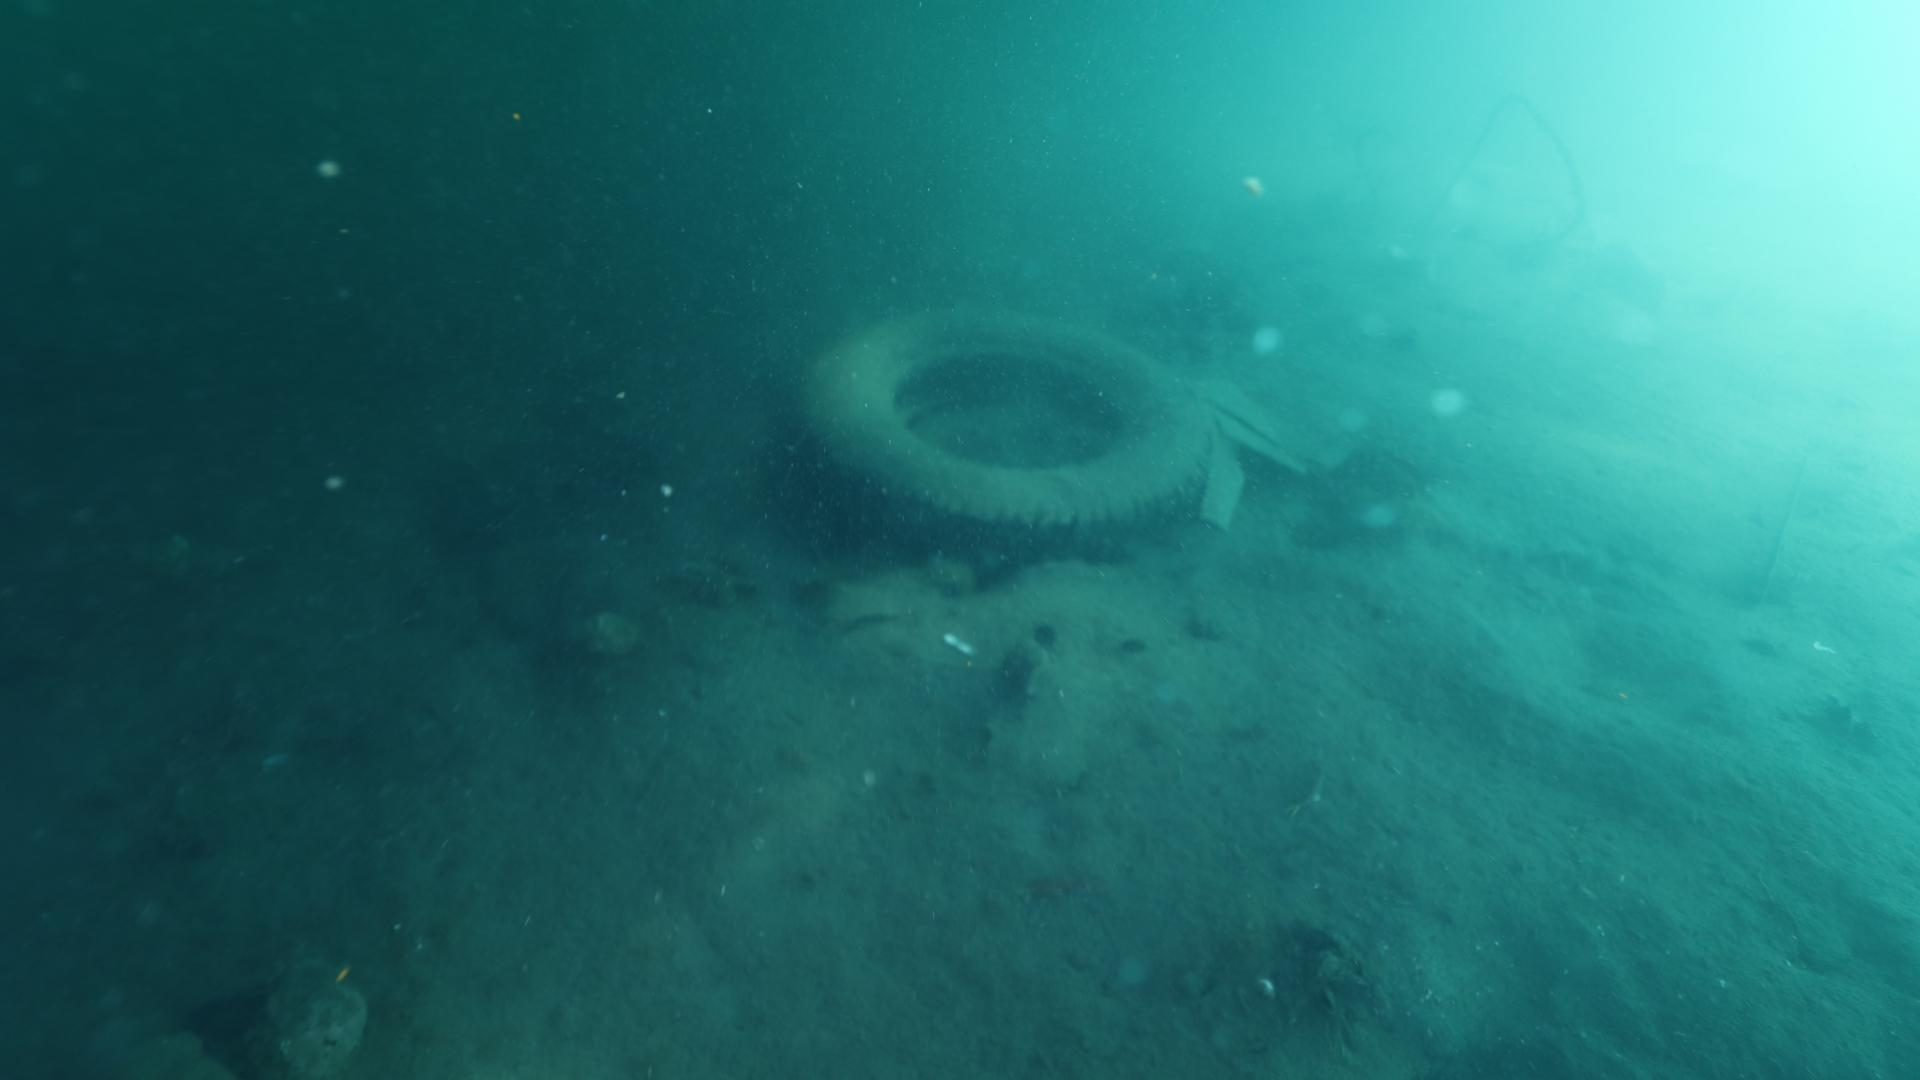tire: (793, 298, 1215, 560)
